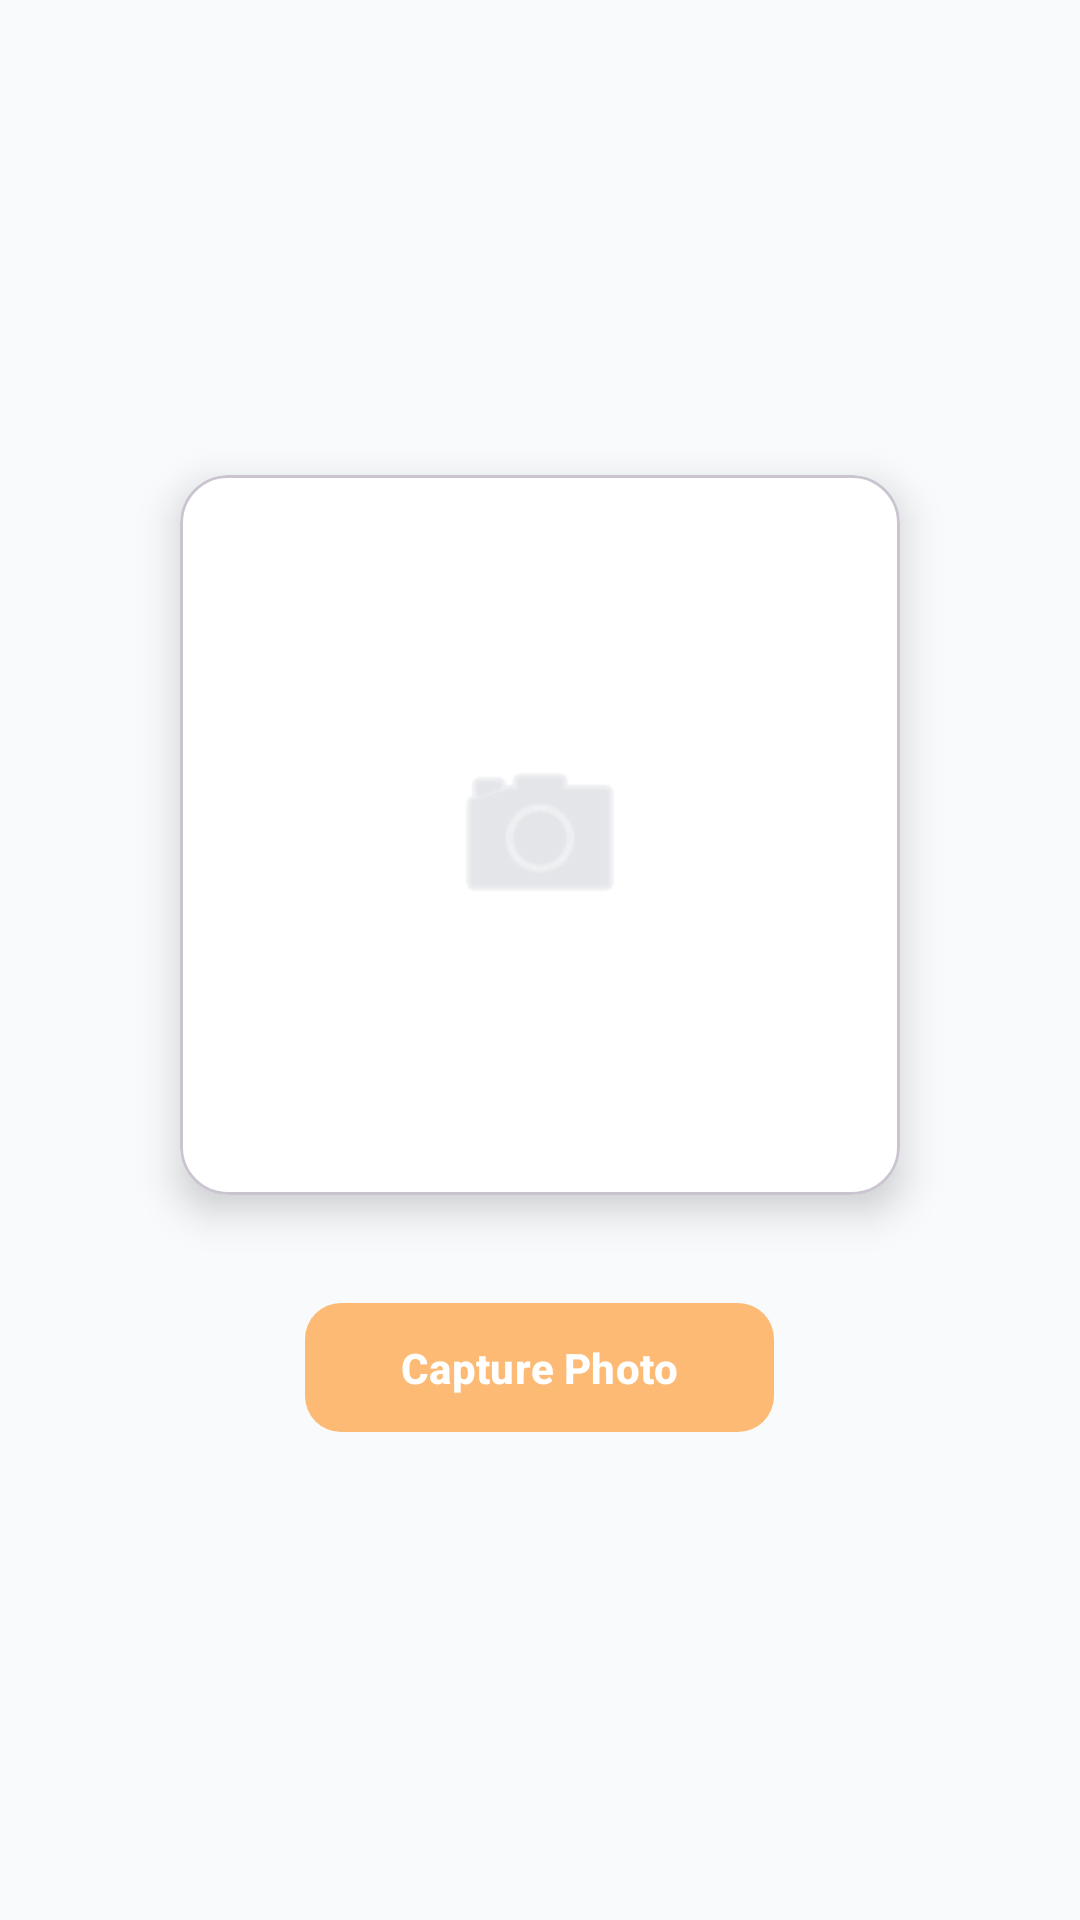

Icons on this 1080 x 1920 Android screen, each with the point to tap as (x=x, y=y):
camera: (x=540, y=832)
